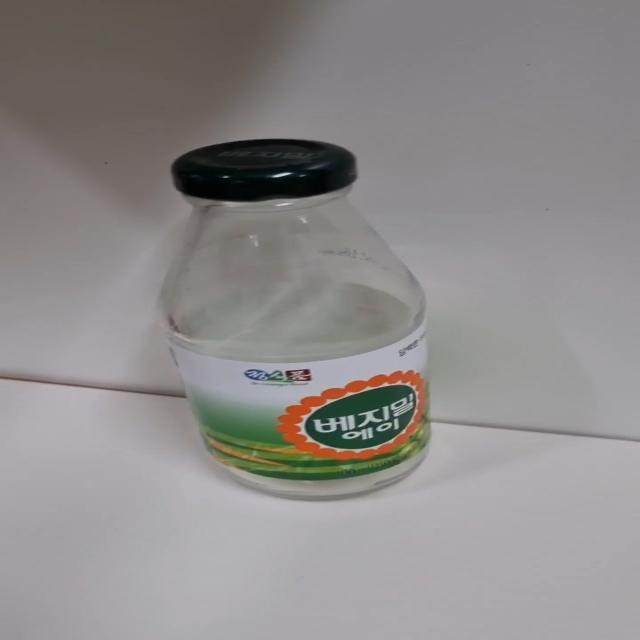Glass: (156, 139, 432, 502)
